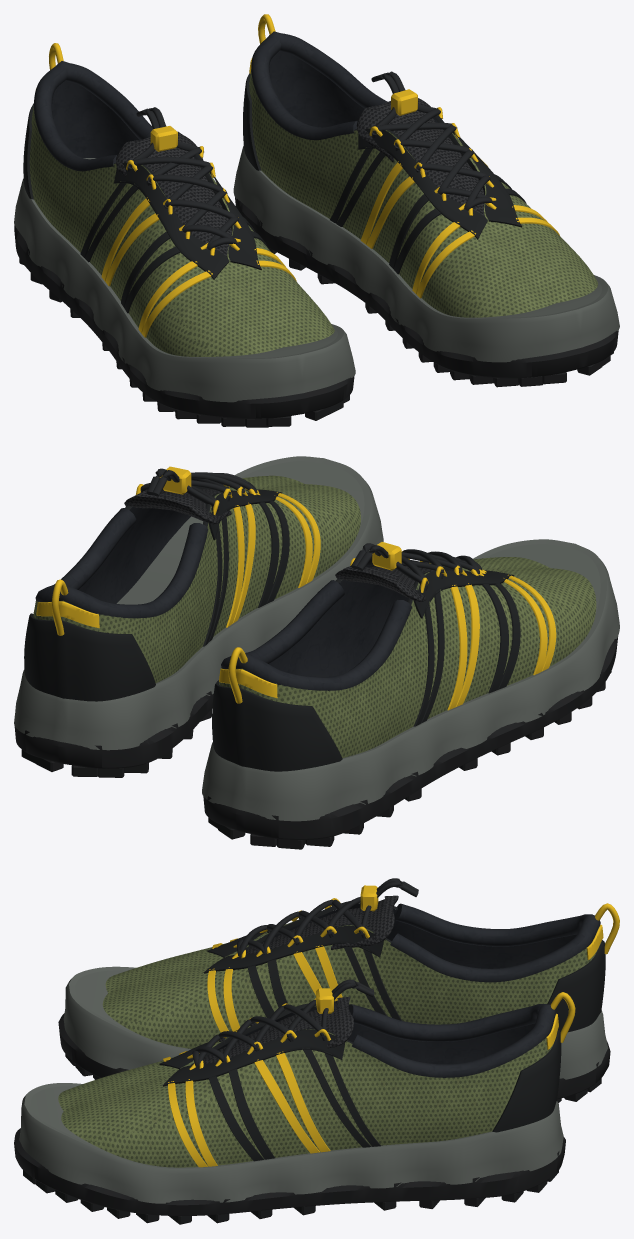
The model's file is trail-shoe.glb.
3 views of the same model, one above another, from view 1: azimuth 30°, elevation 25°; view 2: azimuth 150°, elevation 25°; view 3: azimuth 270°, elevation 25° (orthographic). The views are drawn at different scales.
Visible parts, largest first — view 1: Left_Shoe, Right_Shoe; view 2: Right_Shoe, Left_Shoe; view 3: Left_Shoe, Right_Shoe.
Boxes of the visible parts, <box> form: Left_Shoe: <box>233,14,619,387</box>; Right_Shoe: <box>14,43,355,427</box>; Right_Shoe: <box>202,539,619,849</box>; Left_Shoe: <box>14,456,383,777</box>; Left_Shoe: <box>14,979,575,1224</box>; Right_Shoe: <box>58,878,619,1102</box>.
Size of the model in its own units: 0.2542 by 0.1189 by 0.3273.
9 materials, 4 textured.
